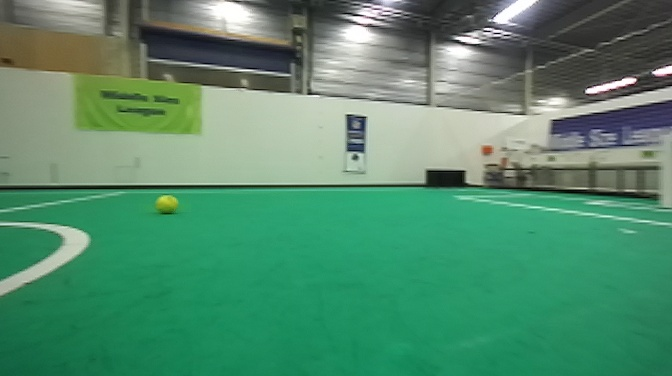ball: (155, 193, 178, 215)
